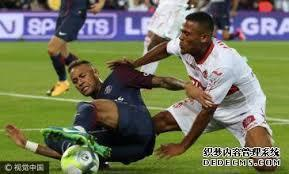Fall-Detected: (144, 7, 287, 167)
